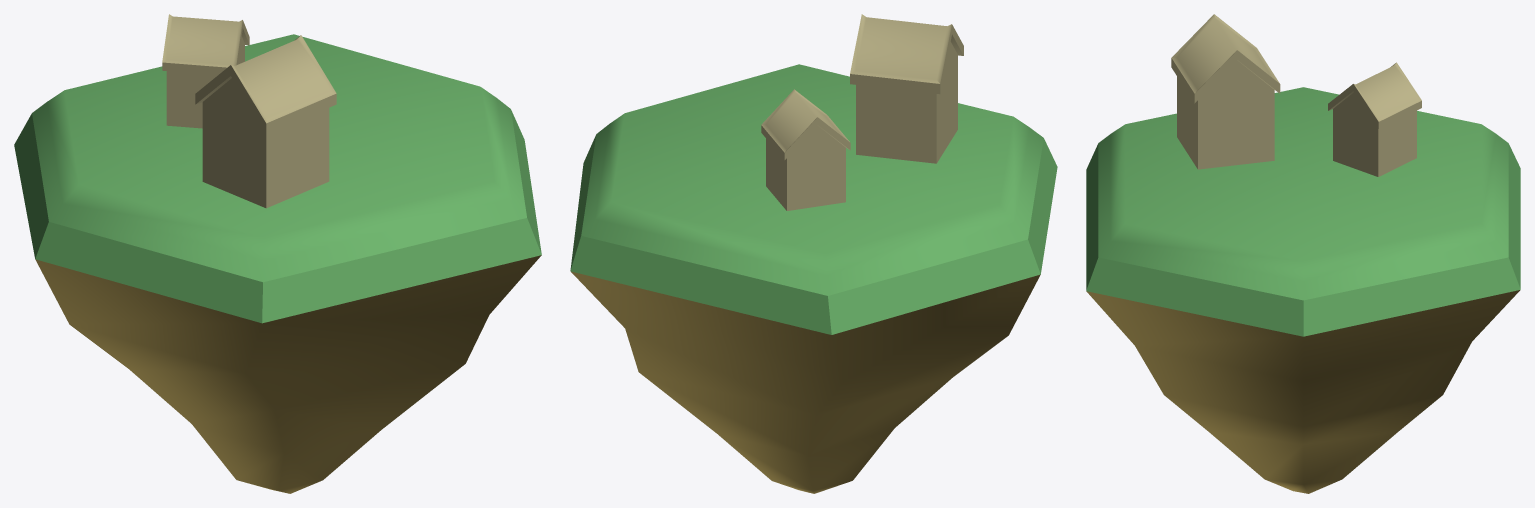
The model's file is TownTile_test.fbx.
The picture shows the model from 3 angles, left to right: view 1: azimuth 30°, elevation 25°; view 2: azimuth 150°, elevation 25°; view 3: azimuth 270°, elevation 25°; orthographic projection. The views are drawn at different scales.
Visible parts, largest first — view 1: iland, pCube1, pCube2; view 2: iland, pCube1, pCube2; view 3: iland, pCube1, pCube2.
Part boxes in pixels (box(x1,y1,x2,y2)): iland: box(14, 34, 541, 493); pCube1: box(195, 35, 336, 208); pCube2: box(162, 14, 249, 128); iland: box(570, 64, 1057, 493); pCube1: box(850, 14, 963, 163); pCube2: box(761, 89, 850, 210); iland: box(1086, 87, 1520, 493); pCube1: box(1171, 14, 1280, 169); pCube2: box(1328, 62, 1421, 176).
Bounding box in the file's own units: 11.53 × 10.96 × 9.99.
